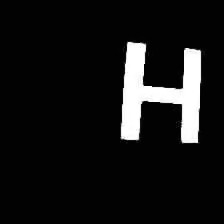LTR_H: (106, 31, 204, 150)
